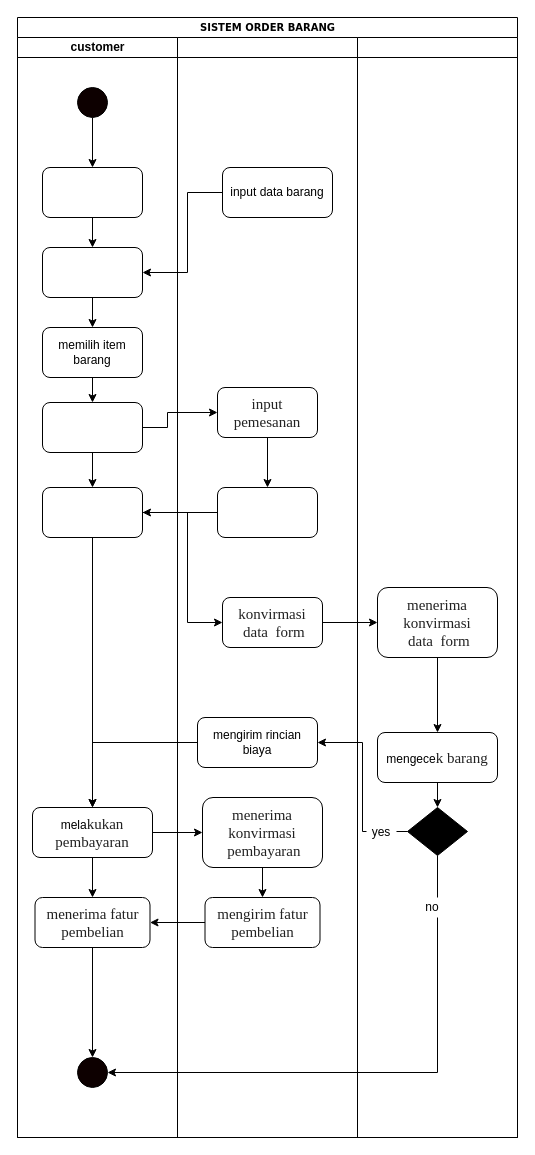
Image size: 535x1155. Some labels were removed from this diagram. The box of each missing label's shape, as (x1, y1, x2, y2) in pixels:
login: (42, 166, 142, 218)
melaku kan pemesanan: (42, 402, 142, 452)
memberi form: (216, 486, 318, 538)
mencari barang: (42, 246, 142, 298)
mengisi form: (42, 486, 142, 538)
produksi: (356, 36, 518, 1138)
sales: (176, 36, 358, 1138)
